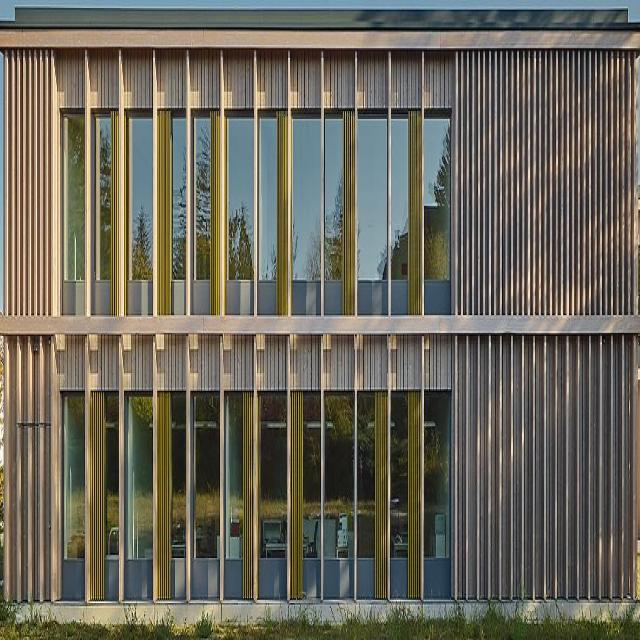window: (322, 388, 355, 600), (258, 388, 288, 600), (124, 390, 154, 601), (191, 392, 221, 599), (357, 117, 388, 314), (423, 392, 452, 598), (292, 117, 322, 314), (226, 118, 254, 317), (423, 115, 451, 314), (62, 389, 86, 603), (129, 115, 153, 316), (224, 393, 245, 604), (389, 392, 410, 597), (191, 115, 212, 317), (356, 390, 376, 601), (64, 107, 84, 316), (324, 118, 344, 316), (391, 118, 410, 316), (258, 114, 276, 319), (302, 390, 320, 594), (170, 395, 188, 599), (92, 115, 110, 316), (104, 392, 120, 603), (172, 116, 186, 316)
